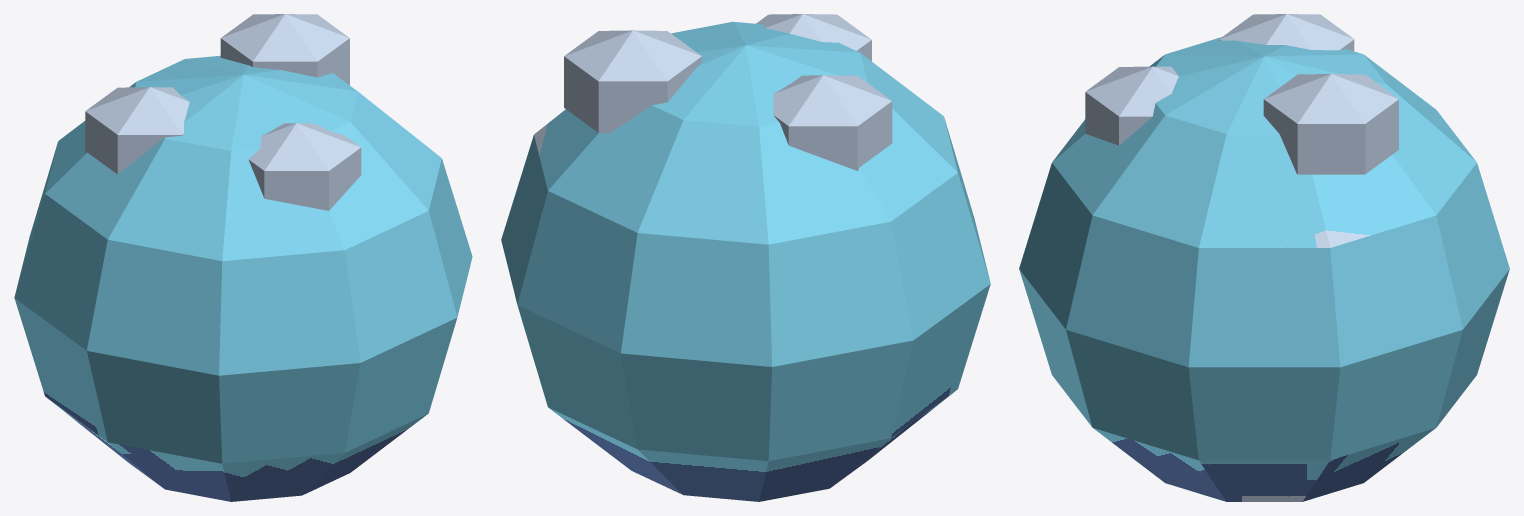
The model's file is snowball.glb.
3 views of the same model, side by side, from view 1: azimuth 30°, elevation 25°; view 2: azimuth 150°, elevation 25°; view 3: azimuth 270°, elevation 25° (orthographic). The views are drawn at different scales.
Visible parts, largest first — view 1: snowball; view 2: snowball; view 3: snowball.
Part boxes in pixels (x1,y1,x2,y2): snowball: (14, 14, 472, 501); snowball: (501, 14, 990, 501); snowball: (1019, 14, 1509, 501).
Bounding box in the file's own units: 0.4185 × 0.44 × 0.44.
Materials: 1 (1 with a texture image).
